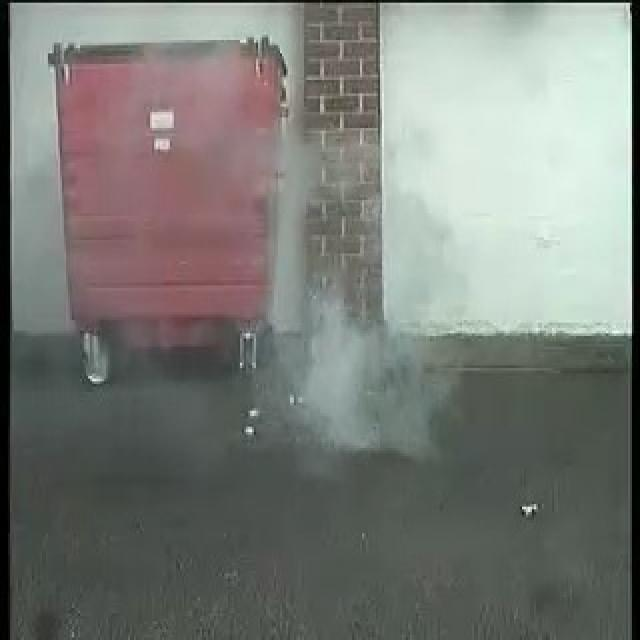smoke: (273, 205, 431, 452)
